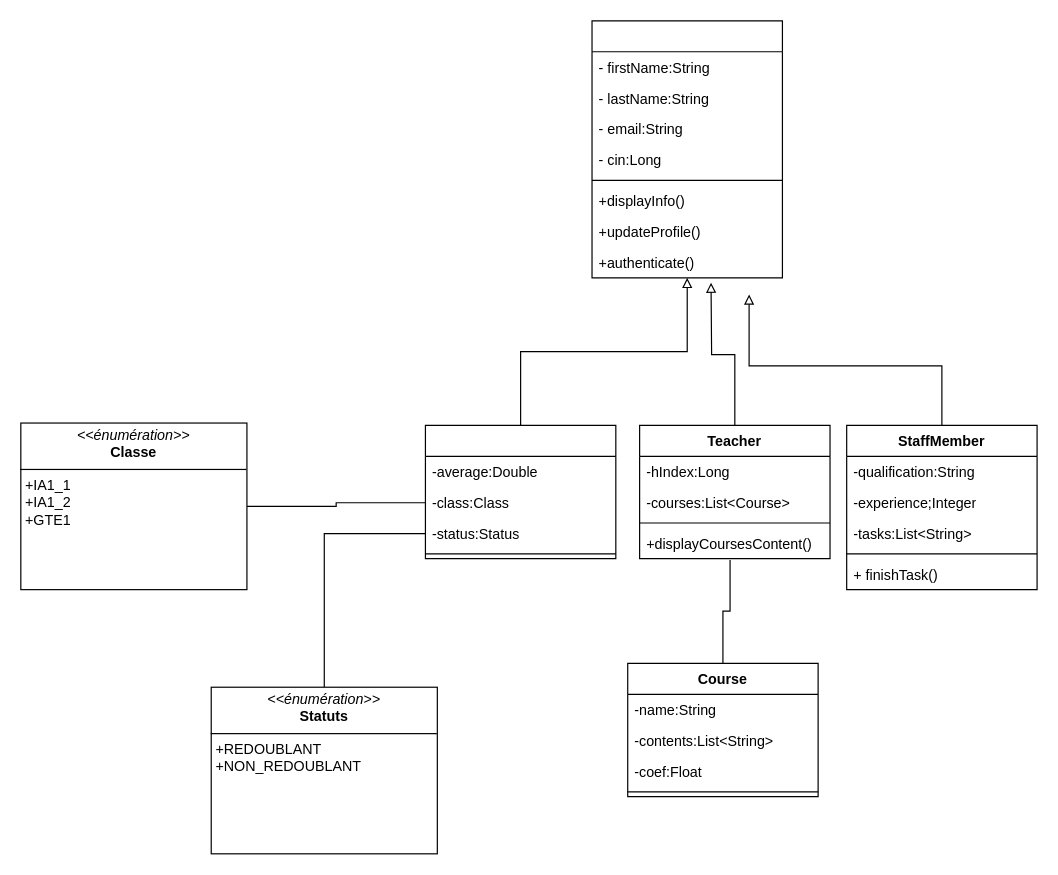
Image size: 1058x875. Some labels were removed from this diagram. Here are the shapes that lost their labels. From the top down, the box of each, then its label:
(591, 20, 782, 278): User
(424, 424, 616, 559): Student
